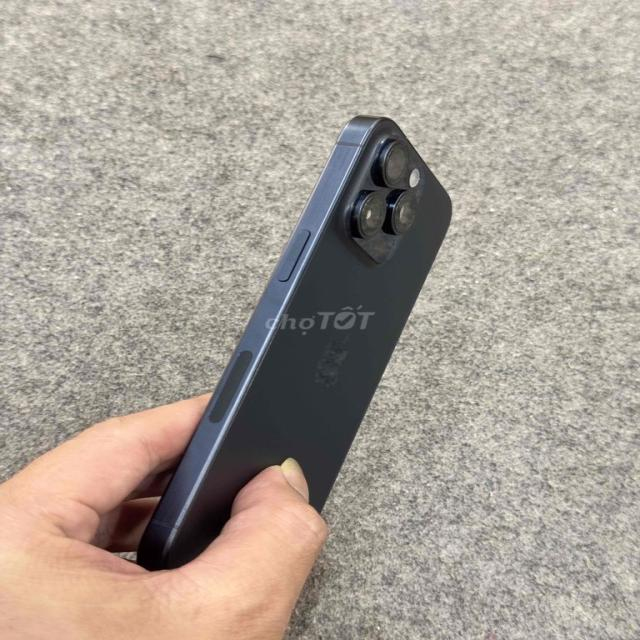scratch: (310, 332, 352, 386)
